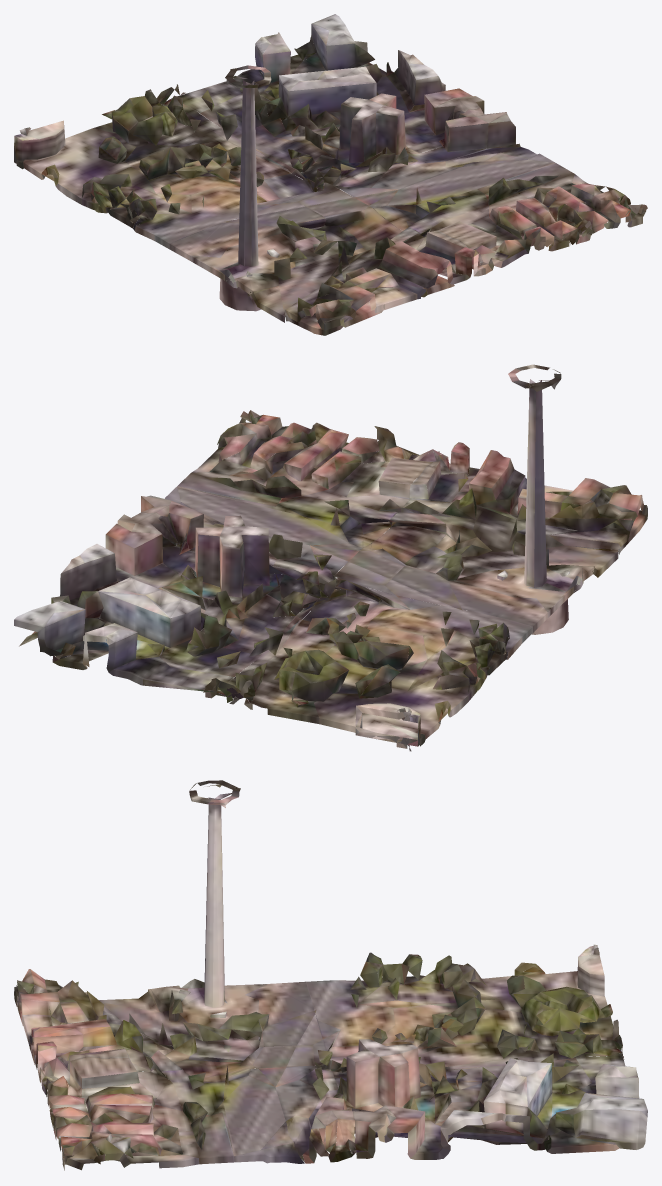
3 views of the same model, one above another, from view 1: azimuth 30°, elevation 25°; view 2: azimuth 150°, elevation 25°; view 3: azimuth 270°, elevation 25° (orthographic). The views are drawn at different scales.
Parts seen in each view (by area): view 1: Mesh_0; view 2: Mesh_0; view 3: Mesh_0.
Boxes of the visible parts, left/top/right/bottom form: Mesh_0: left=14, top=14, right=647, bottom=335; Mesh_0: left=14, top=364, right=647, bottom=751; Mesh_0: left=14, top=780, right=647, bottom=1170.
Size of the model in its own units: 268 by 144 by 330.
2 materials, 2 textured.
